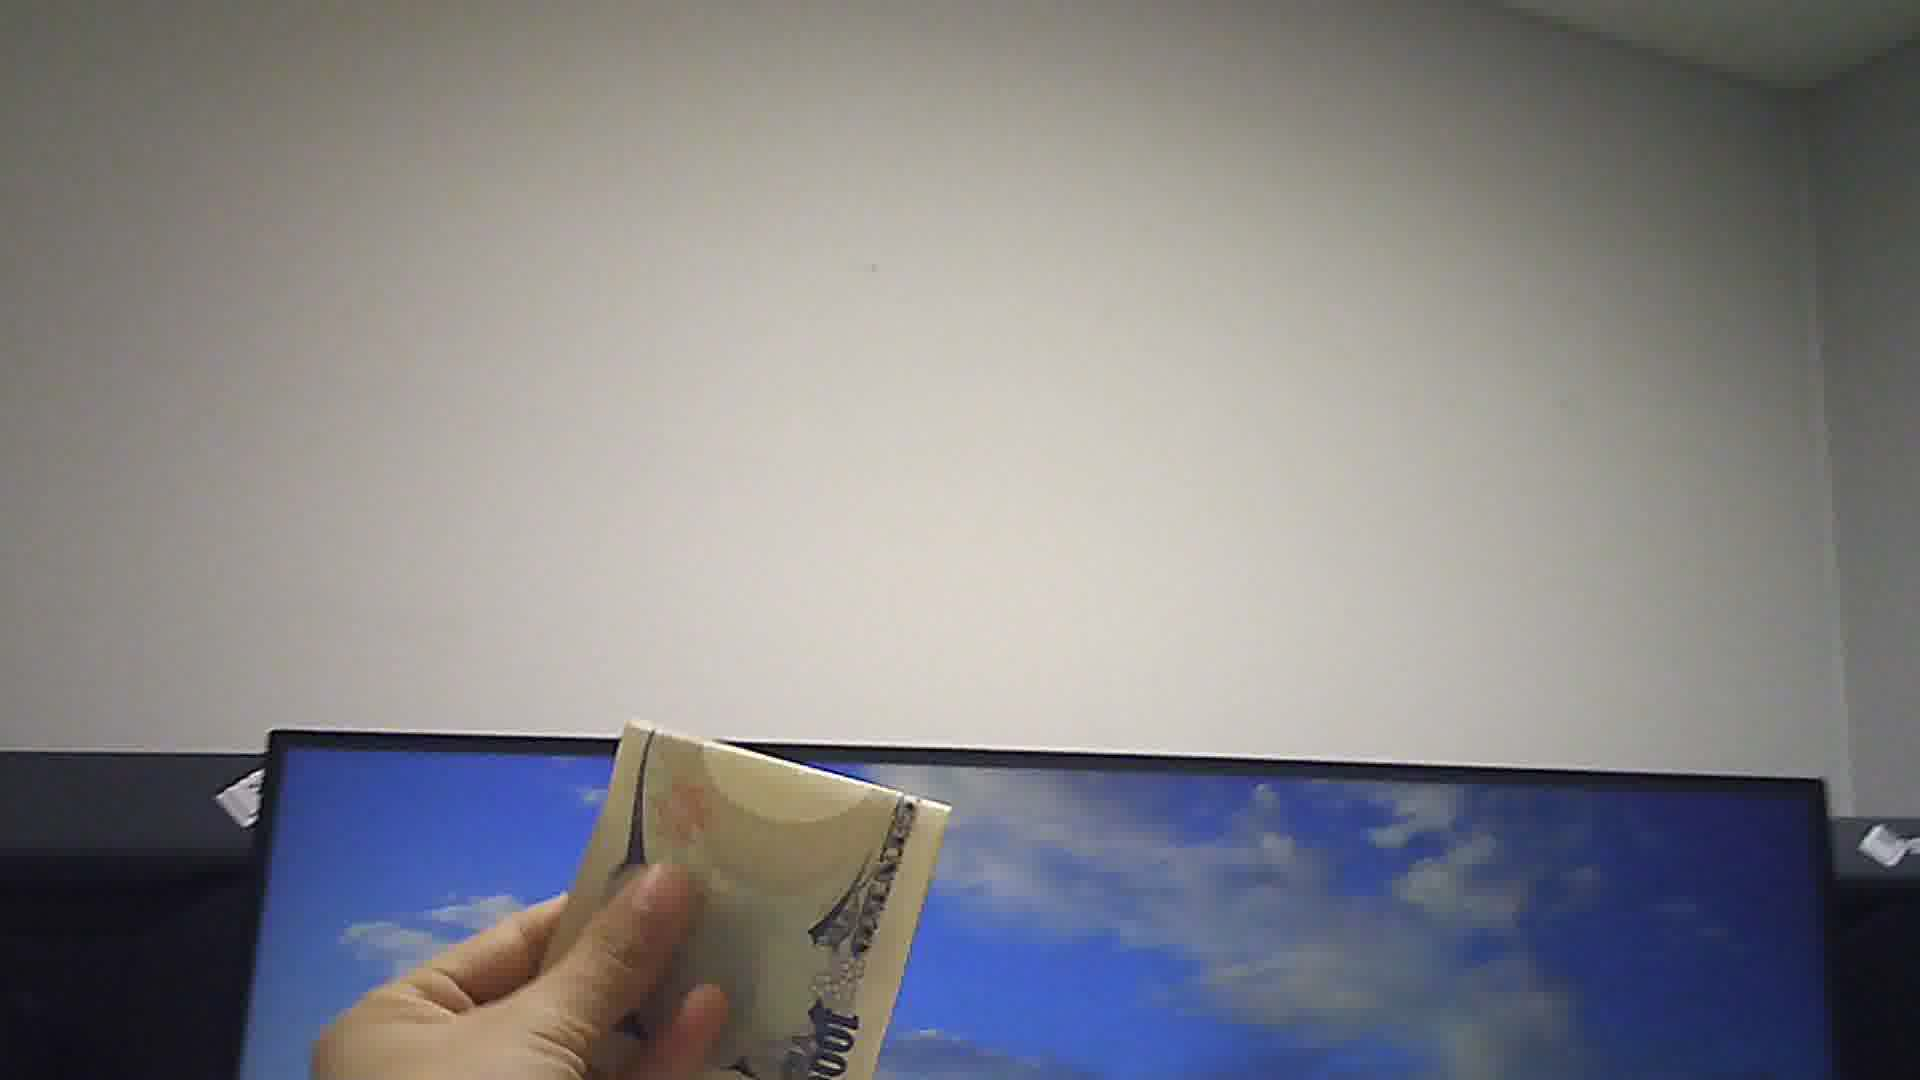1,000 Yen: (546, 717, 951, 1079)
